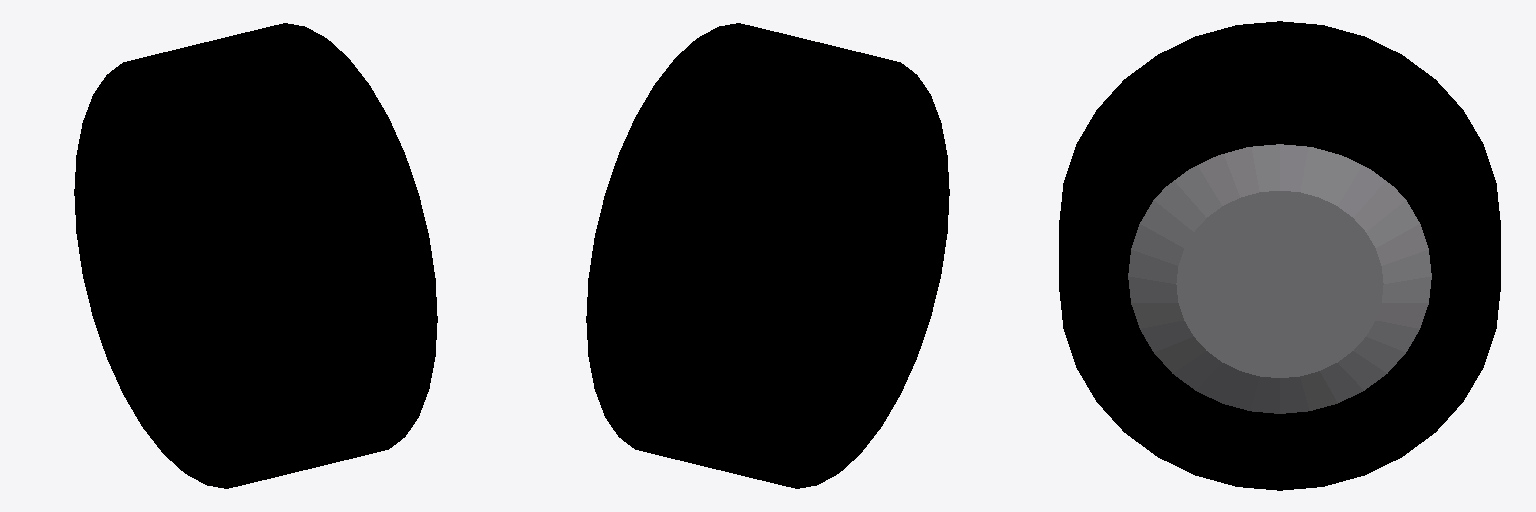
3 renders of one model, left to right at view 1: azimuth 30°, elevation 25°; view 2: azimuth 150°, elevation 25°; view 3: azimuth 270°, elevation 25°, orthographic.
Visible parts, largest first — view 1: Car.001_Car1_Cube.002; view 2: Car.001_Car1_Cube.002; view 3: Car.001_Car1_Cube.002.
Boxes of the visible parts, box(x1,y1,x2,y2) form: Car.001_Car1_Cube.002: box(74, 23, 437, 488); Car.001_Car1_Cube.002: box(586, 23, 949, 488); Car.001_Car1_Cube.002: box(1059, 21, 1500, 490).
Bounding box in the file's own units: 0.2435 × 0.6518 × 0.6518.
1 materials, 1 textured.